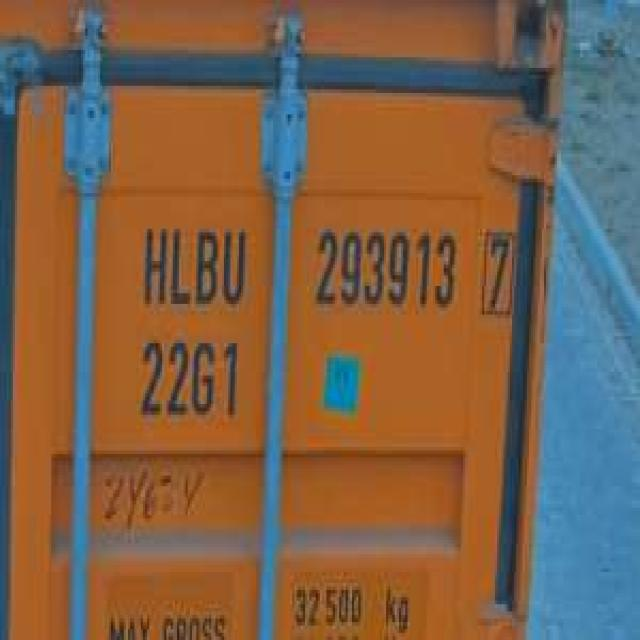dv: (477, 222, 517, 318)
owner: (138, 216, 252, 313)
serial: (310, 217, 461, 317)
size: (135, 330, 242, 423)
